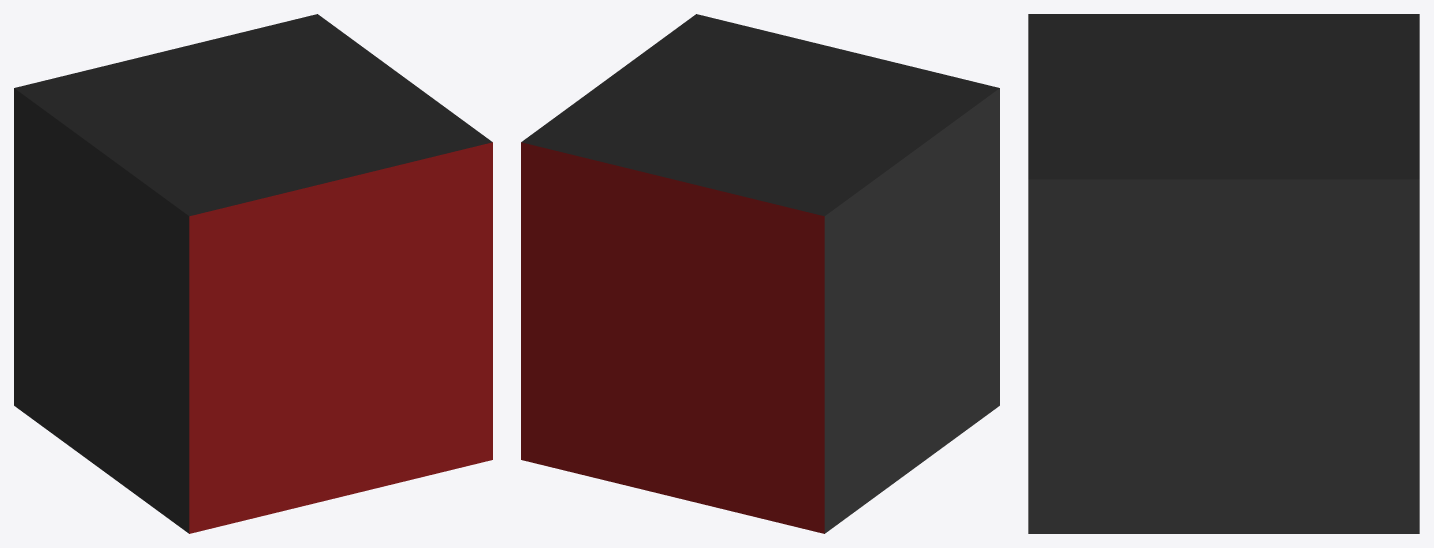
The model's file is boots_mk1_pass02.glb.
3 renders of one model, left to right at view 1: azimuth 30°, elevation 25°; view 2: azimuth 150°, elevation 25°; view 3: azimuth 270°, elevation 25°, orthographic. The views are drawn at different scales.
Parts seen in each view (by area): view 1: VAULT_BOOT_DONOR; view 2: VAULT_BOOT_DONOR; view 3: VAULT_BOOT_DONOR.
Part boxes in pixels (x1=…): VAULT_BOOT_DONOR: x1=14, y1=14, x2=492, y2=533; VAULT_BOOT_DONOR: x1=521, y1=14, x2=999, y2=533; VAULT_BOOT_DONOR: x1=1028, y1=14, x2=1419, y2=533.
Bounding box in the file's own units: 0.1 × 0.1067 × 0.1.
